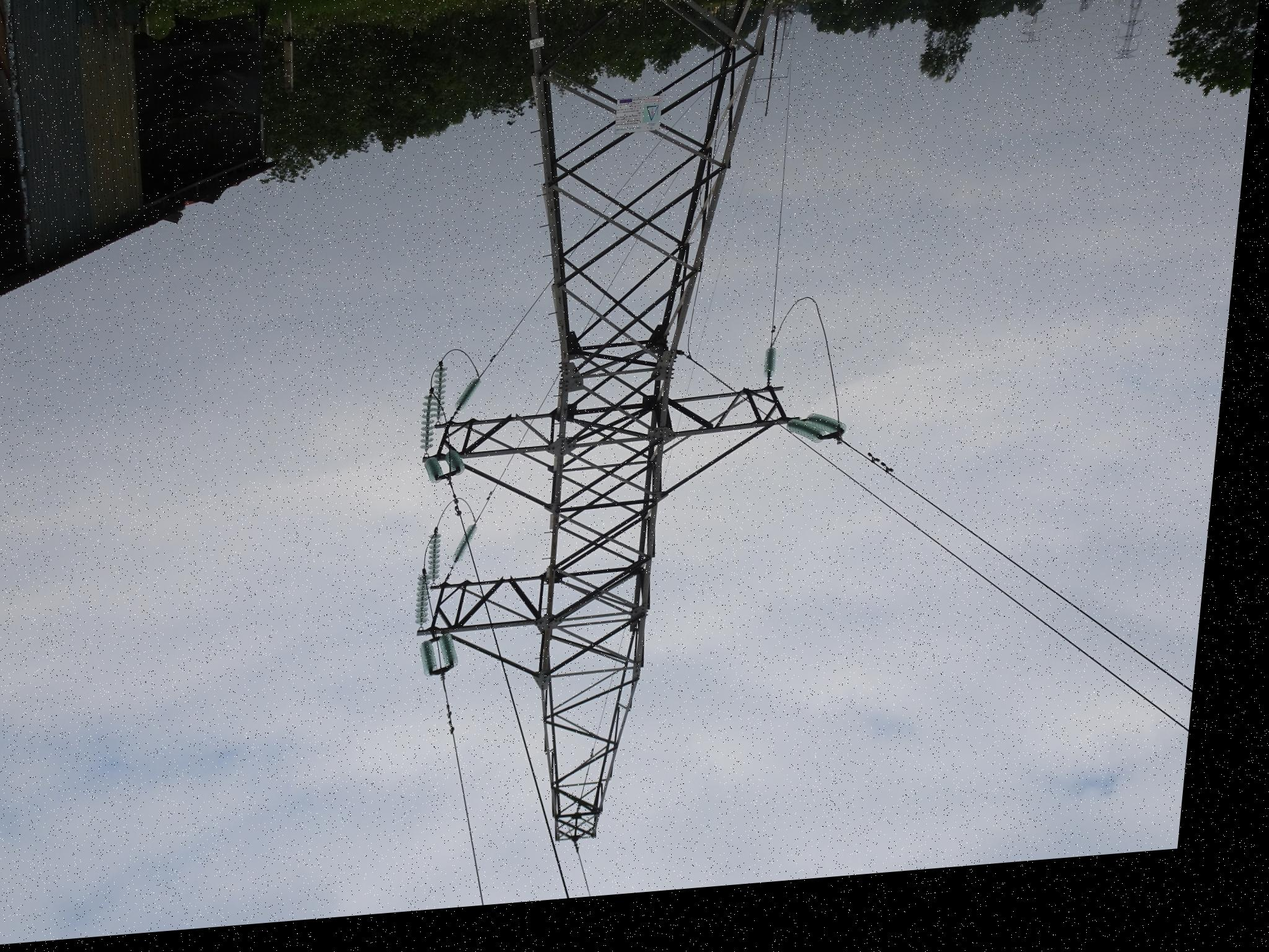tower: (373, 0, 842, 875)
